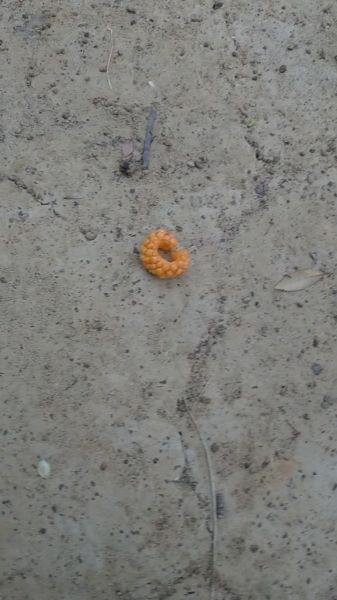eggs: (132, 223, 196, 285)
